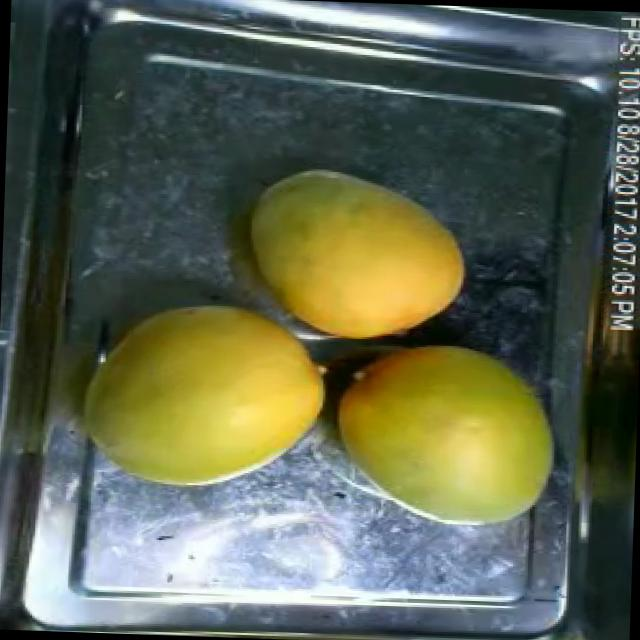fruit: (64, 282, 344, 504), (230, 149, 480, 361), (320, 326, 565, 536)
